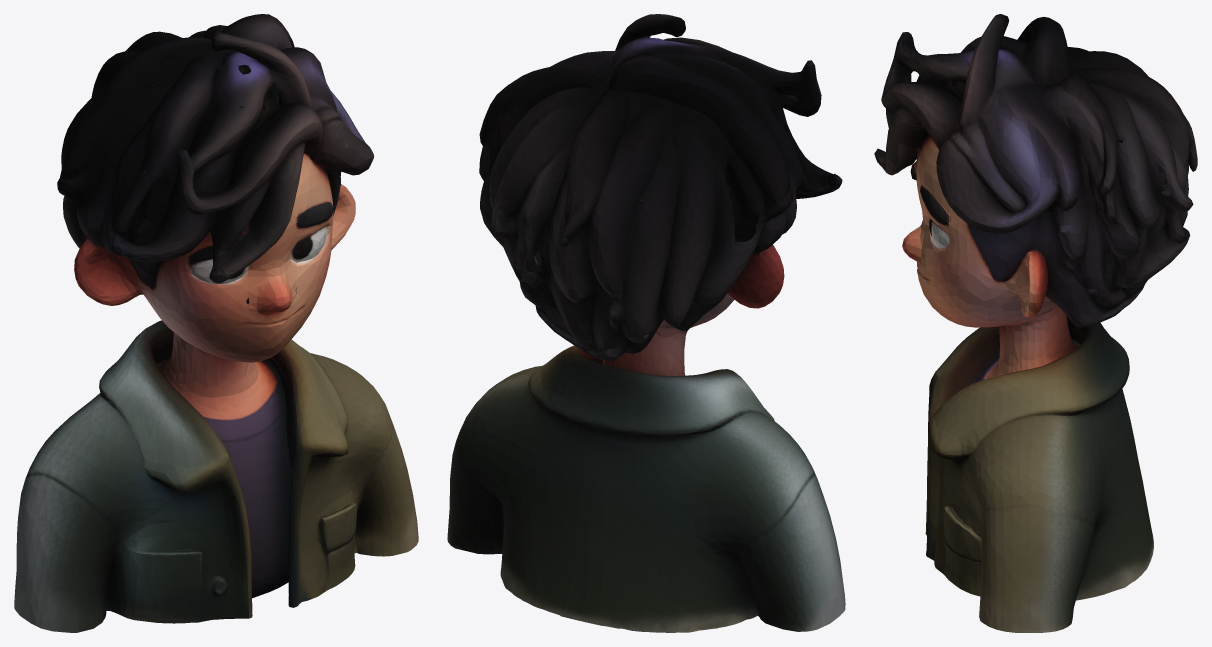
File: garcon8.glb
3 views of the same model, side by side, from view 1: azimuth 30°, elevation 25°; view 2: azimuth 150°, elevation 25°; view 3: azimuth 270°, elevation 25° (orthographic). The views are drawn at different scales.
Parts seen in each view (by area): view 1: world; view 2: world; view 3: world.
Boxes of the visible parts, x1,y1,x2,y2 form: world: (14, 14, 418, 632); world: (447, 14, 845, 632); world: (874, 14, 1197, 632).
Size of the model in its own units: 0.7184 by 0.9987 by 0.5584.
1 material, 1 textured.
